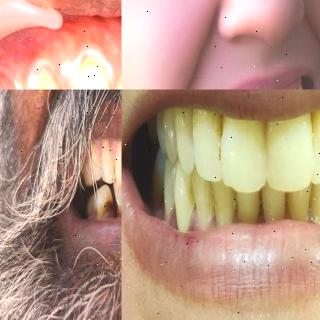Gum Swelling: (15, 38, 122, 90)
calculus: (118, 188, 122, 216)
cavities: (100, 198, 114, 218)
maligned: (72, 54, 118, 90)
plaque: (264, 112, 312, 188), (230, 114, 264, 190), (192, 104, 211, 165), (174, 106, 194, 160), (309, 102, 320, 178), (218, 108, 232, 166), (206, 173, 222, 220), (278, 189, 296, 221), (227, 190, 243, 225), (186, 179, 200, 215), (257, 190, 269, 226)
